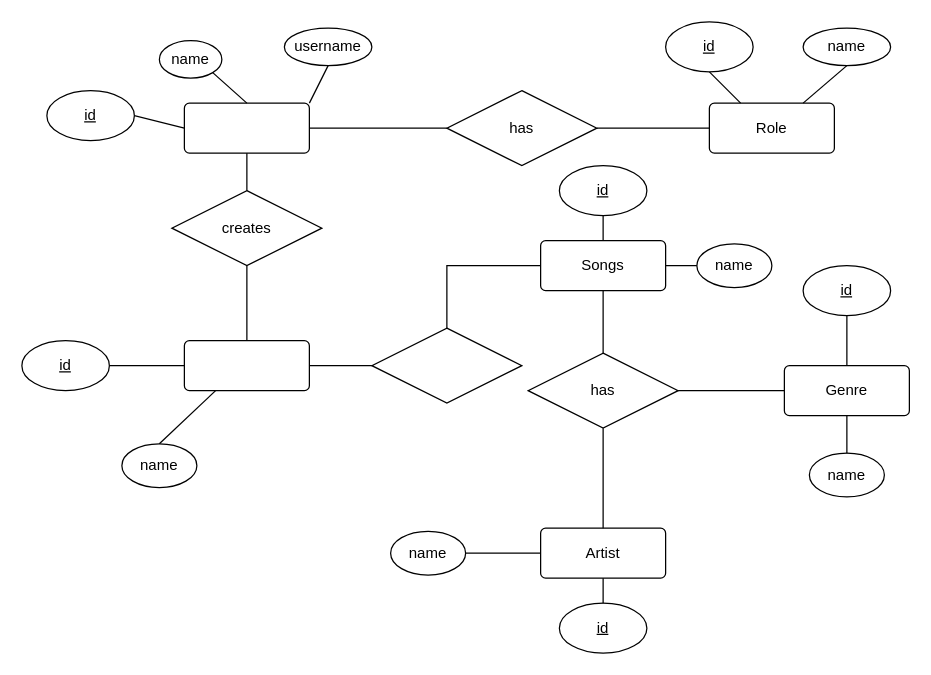
Some shapes in this 931 by 675 pixel diagram are drawn without their labels. Here are the shapes that lost their labels. From the top down, the centre of each, then its label:
(x=246, y=127): User
(x=246, y=365): Play list
(x=446, y=365): refers to
